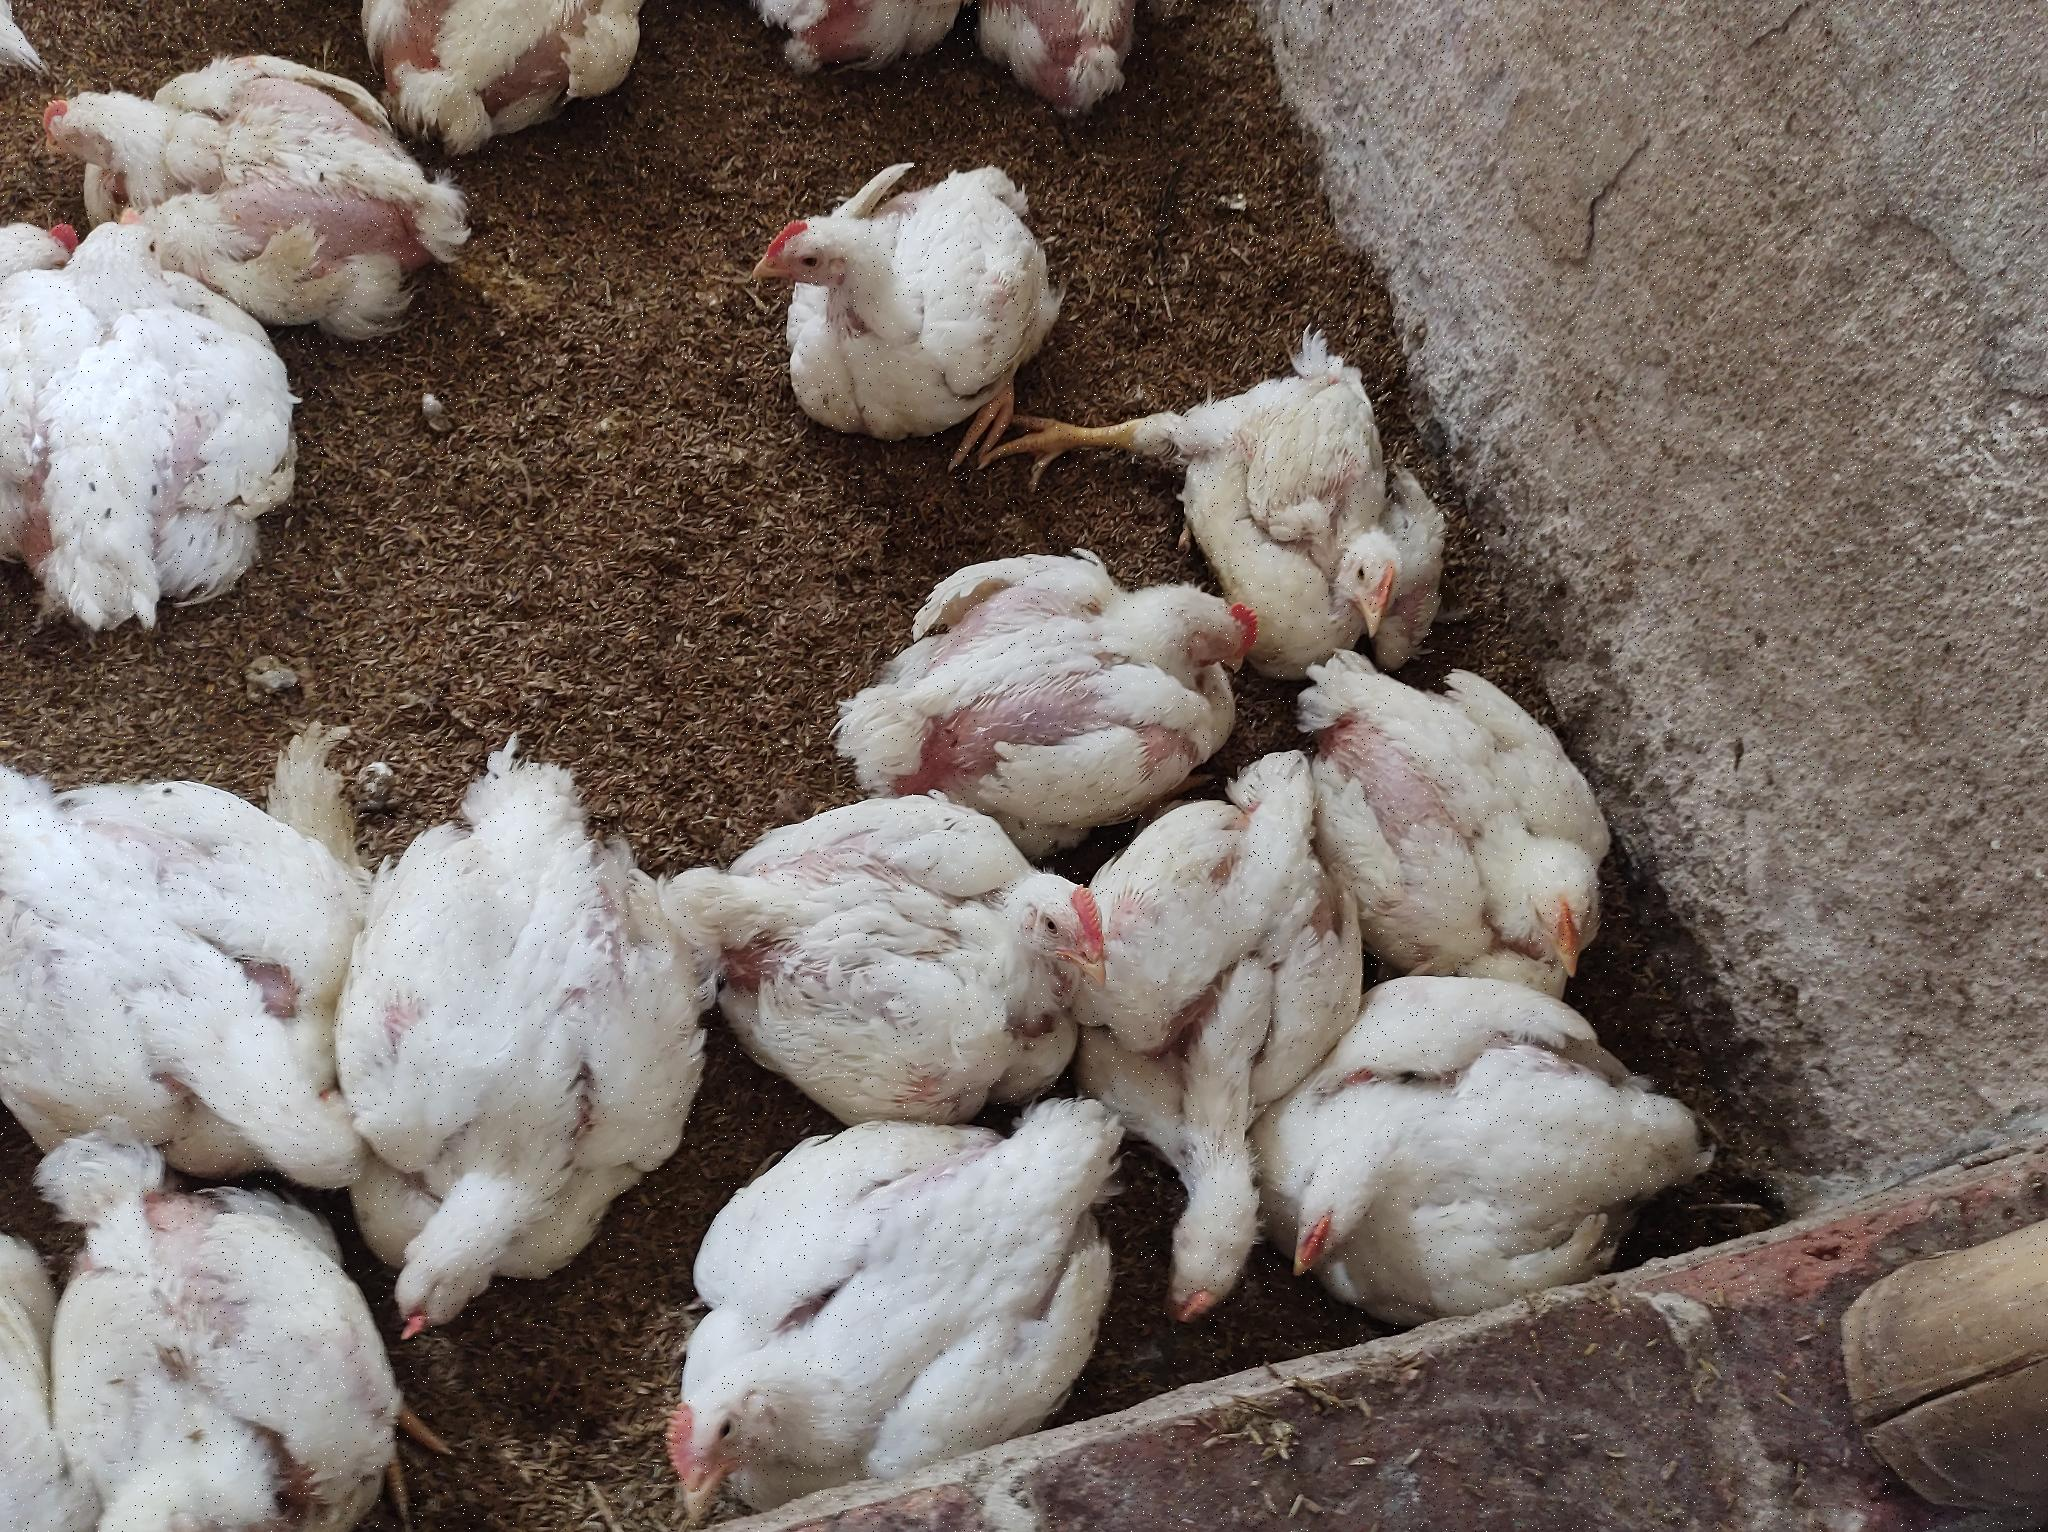Pollos: (648, 1101, 1128, 1526), (360, 784, 698, 1355), (1289, 962, 1741, 1365), (11, 1138, 430, 1529), (701, 737, 1112, 1101), (11, 740, 351, 1144), (817, 542, 1265, 824), (2, 204, 306, 615), (47, 63, 473, 336), (1339, 616, 1633, 978), (753, 163, 1075, 459), (1186, 364, 1464, 669), (1129, 1065, 1287, 1334), (368, 2, 631, 135), (975, 2, 1170, 121)
